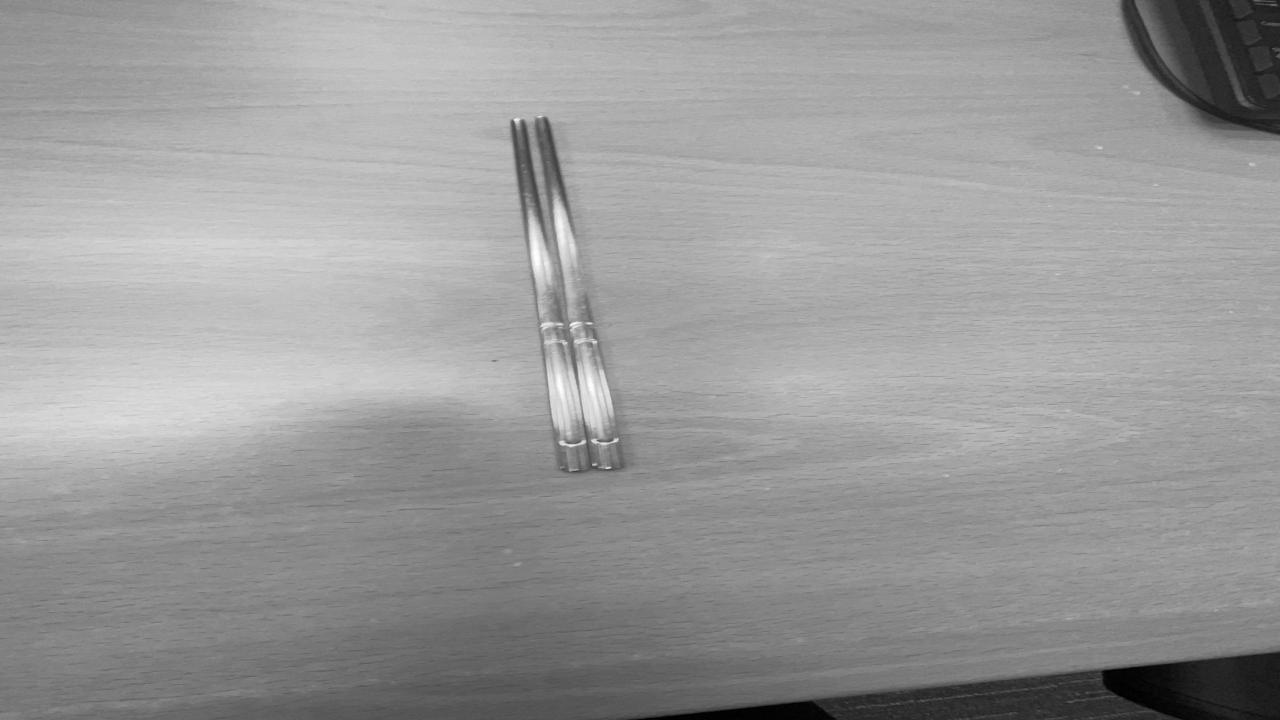chopstick: (499, 114, 633, 478)
